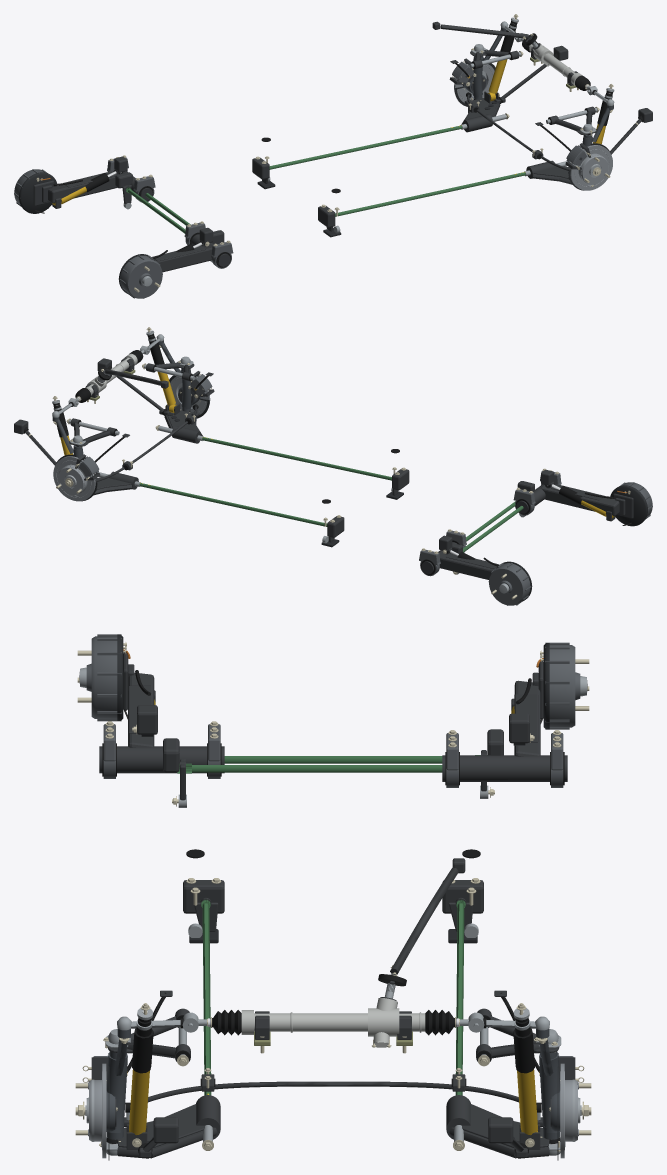
File: trains.glb
3 renders of one model, top to bottom at view 1: azimuth 30°, elevation 25°; view 2: azimuth 150°, elevation 25°; view 3: azimuth 270°, elevation 25°, orthographic. The views are drawn at different scales.
Visible parts, largest first — view 1: bras-ar.acier-noirci, triangles-av.acier-noirci, tambours-ar.fonte-frein, barres-torsion-av.barre-torsion, disques-av.disque, bras-ar.fonte-frein, bras-ar.tole-noire, porte-fusee.acier-forge, tirants-chasse.acier-noirci, direction.acier-noirci, barres-torsion-av.acier-noirci, direction.alu-coule (+7 smaller); view 2: bras-ar.acier-noirci, triangles-av.acier-noirci, tambours-ar.fonte-frein, barres-torsion-av.barre-torsion, disques-av.disque, porte-fusee.acier-forge, bras-ar.tole-noire, bras-ar.fonte-frein, tirants-chasse.acier-noirci, barres-torsion-av.acier-noirci, direction.acier-noirci, barres-torsion-ar.barre-torsion (+6 smaller); view 3: bras-ar.acier-noirci, triangles-av.acier-noirci, tambours-ar.fonte-frein, direction.alu-coule, barres-torsion-ar.barre-torsion, porte-fusee.acier-forge, barres-torsion-av.acier-noirci, barres-torsion-av.barre-torsion, bras-ar.fonte-frein, barres-stabilisatrices.acier-noirci, disques-av.disque, amortisseurs-av.amortisseur (+9 smaller).
Boxes of the visible parts, box(x1,y1,x2,y2) form: bras-ar.acier-noirci: box(33, 171, 230, 272); triangles-av.acier-noirci: box(461, 49, 596, 184); tambours-ar.fonte-frein: box(14, 169, 162, 298); barres-torsion-av.barre-torsion: box(269, 125, 525, 216); disques-av.disque: box(454, 61, 612, 190); bras-ar.fonte-frein: box(107, 157, 233, 268); bras-ar.tole-noire: box(19, 172, 154, 294); porte-fusee.acier-forge: box(463, 27, 613, 146); tirants-chasse.acier-noirci: box(500, 45, 652, 154); direction.acier-noirci: box(432, 21, 577, 85); barres-torsion-av.acier-noirci: box(252, 157, 335, 231); direction.alu-coule: box(529, 43, 582, 85); bras-ar.acier-noirci: box(421, 484, 633, 579); triangles-av.acier-noirci: box(69, 361, 202, 495); tambours-ar.fonte-frein: box(488, 482, 652, 605); barres-torsion-av.barre-torsion: box(139, 437, 391, 526); disques-av.disque: box(53, 374, 210, 501); porte-fusee.acier-forge: box(52, 340, 201, 457); bras-ar.tole-noire: box(496, 485, 647, 601); bras-ar.fonte-frein: box(419, 470, 561, 576); tirants-chasse.acier-noirci: box(14, 358, 164, 465); barres-torsion-av.acier-noirci: box(327, 468, 409, 542); direction.acier-noirci: box(85, 357, 168, 397); barres-torsion-ar.barre-torsion: box(463, 501, 523, 552); bras-ar.acier-noirci: box(99, 652, 567, 781); triangles-av.acier-noirci: box(107, 1008, 559, 1158); tambours-ar.fonte-frein: box(86, 634, 580, 729); direction.alu-coule: box(241, 997, 425, 1047); barres-torsion-ar.barre-torsion: box(177, 755, 480, 773); porte-fusee.acier-forge: box(106, 1029, 560, 1139); barres-torsion-av.acier-noirci: box(183, 880, 483, 931); barres-torsion-av.barre-torsion: box(201, 899, 465, 1095); bras-ar.fonte-frein: box(103, 724, 563, 787); barres-stabilisatrices.acier-noirci: box(148, 1074, 518, 1102); disques-av.disque: box(88, 1063, 578, 1158); amortisseurs-av.amortisseur: box(129, 1069, 537, 1135).
Size of the model in its own units: 2.96 by 0.636 by 1.23.
